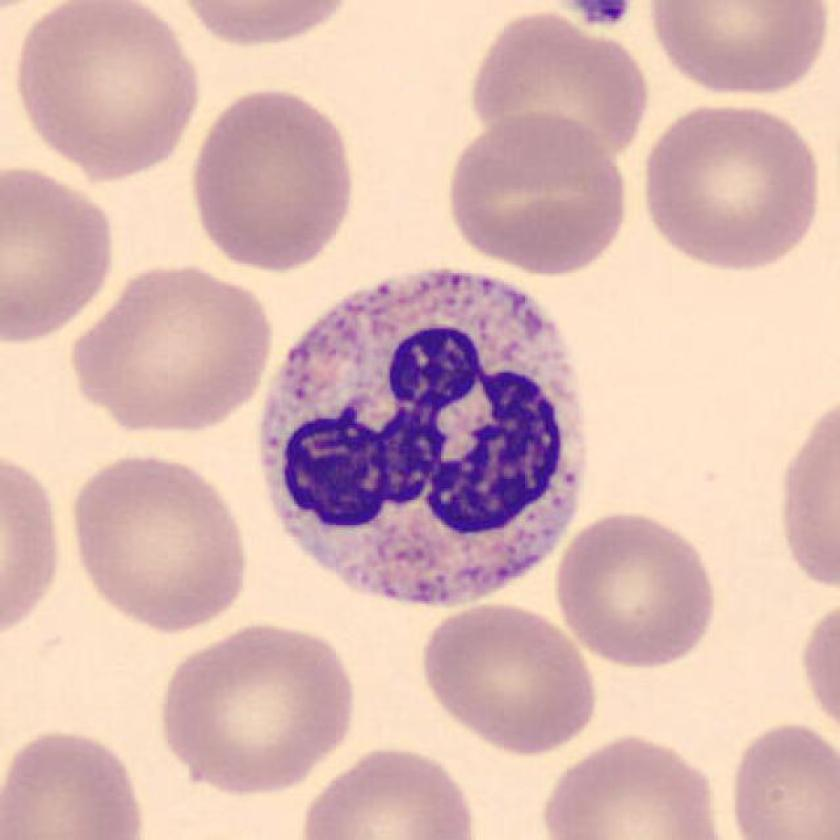neutrophil: (262, 273, 590, 602)
